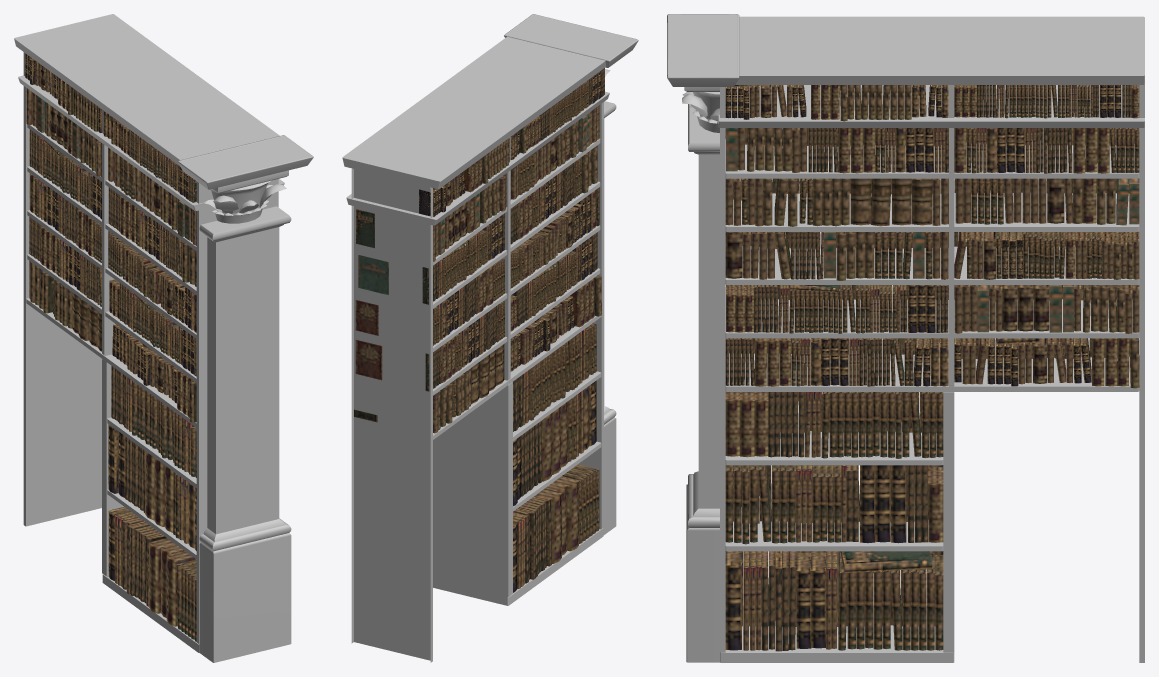
Rendered from sm0599_libraryseta_01.fbx.
3 views of the same model, side by side, from view 1: azimuth 30°, elevation 25°; view 2: azimuth 150°, elevation 25°; view 3: azimuth 270°, elevation 25° (orthographic). The views are drawn at different scales.
Parts seen in each view (by area): view 1: LODGroup_1_MainMesh_1_SubMesh_2, LODGroup_1_MainMesh_1_SubMesh_4, LODGroup_1_MainMesh_1_SubMesh_3, LODGroup_1_MainMesh_1_SubMesh_1; view 2: LODGroup_1_MainMesh_1_SubMesh_2, LODGroup_1_MainMesh_1_SubMesh_4, LODGroup_1_MainMesh_1_SubMesh_1, LODGroup_1_MainMesh_1_SubMesh_3; view 3: LODGroup_1_MainMesh_1_SubMesh_4, LODGroup_1_MainMesh_1_SubMesh_2, LODGroup_1_MainMesh_1_SubMesh_3, LODGroup_1_MainMesh_1_SubMesh_1.
Boxes of the visible parts, box(x1,y1,x2,y2) form: LODGroup_1_MainMesh_1_SubMesh_2: box(14, 14, 284, 652); LODGroup_1_MainMesh_1_SubMesh_4: box(25, 53, 196, 641); LODGroup_1_MainMesh_1_SubMesh_3: box(177, 135, 313, 551); LODGroup_1_MainMesh_1_SubMesh_1: box(179, 136, 311, 662); LODGroup_1_MainMesh_1_SubMesh_2: box(342, 36, 609, 662); LODGroup_1_MainMesh_1_SubMesh_4: box(354, 68, 604, 592); LODGroup_1_MainMesh_1_SubMesh_1: box(506, 15, 636, 534); LODGroup_1_MainMesh_1_SubMesh_3: box(504, 14, 638, 424); LODGroup_1_MainMesh_1_SubMesh_4: box(725, 85, 1139, 651); LODGroup_1_MainMesh_1_SubMesh_2: box(718, 16, 1144, 662); LODGroup_1_MainMesh_1_SubMesh_3: box(667, 14, 739, 527); LODGroup_1_MainMesh_1_SubMesh_1: box(669, 15, 737, 662).
Bounding box in the file's own units: 135 × 586 × 427.
